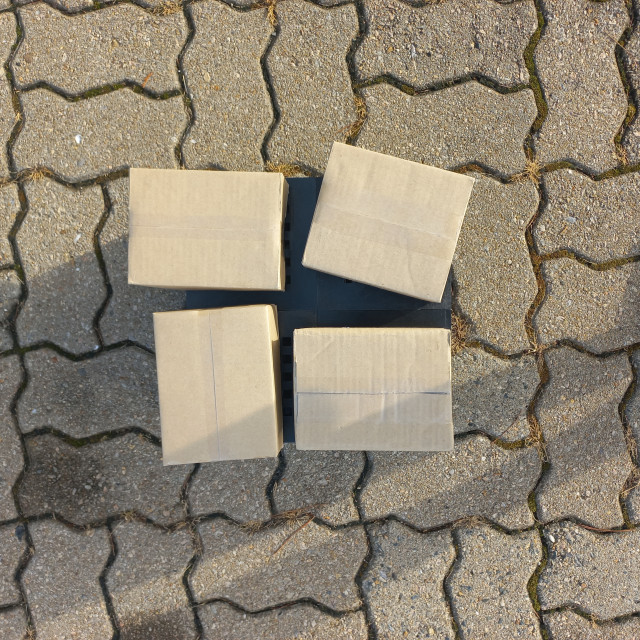box: (166, 333, 339, 502), (357, 171, 490, 339), (184, 186, 349, 316), (350, 342, 514, 472)
